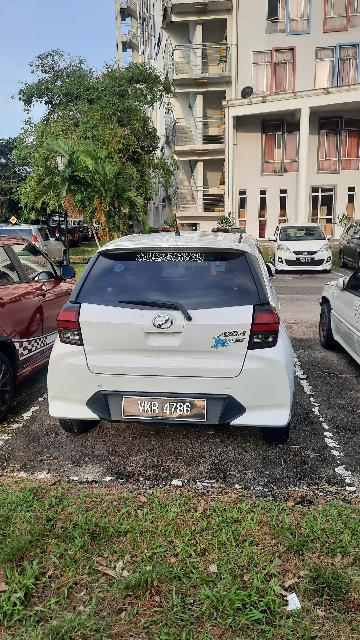License_Plate: (122, 388, 213, 425)
car: (47, 227, 299, 447)
